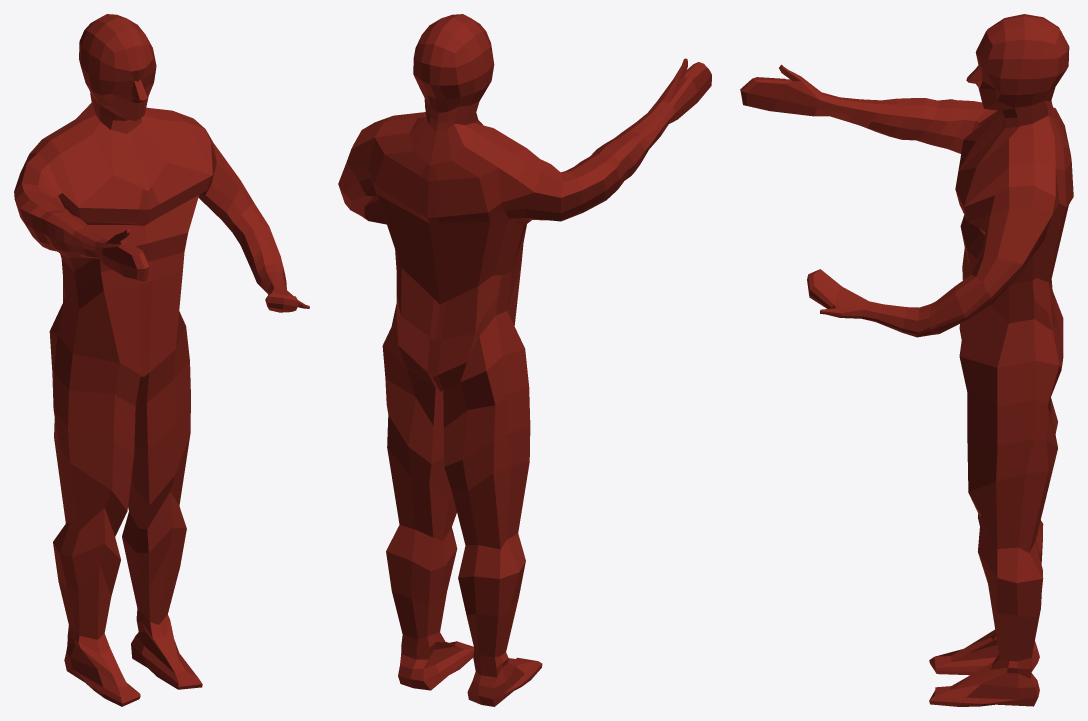
File: CharacterPose2 (1).fbx
3 views of the same model, side by side, from view 1: azimuth 30°, elevation 25°; view 2: azimuth 150°, elevation 25°; view 3: azimuth 270°, elevation 25° (orthographic). The views are drawn at different scales.
Parts seen in each view (by area): view 1: pose 2; view 2: pose 2; view 3: pose 2.
Boxes of the visible parts, box(x1,y1,x2,y2) form: pose 2: box(14, 14, 309, 706); pose 2: box(338, 14, 711, 706); pose 2: box(740, 14, 1073, 706).
Size of the model in its own units: 71.72 by 181 by 81.81.
